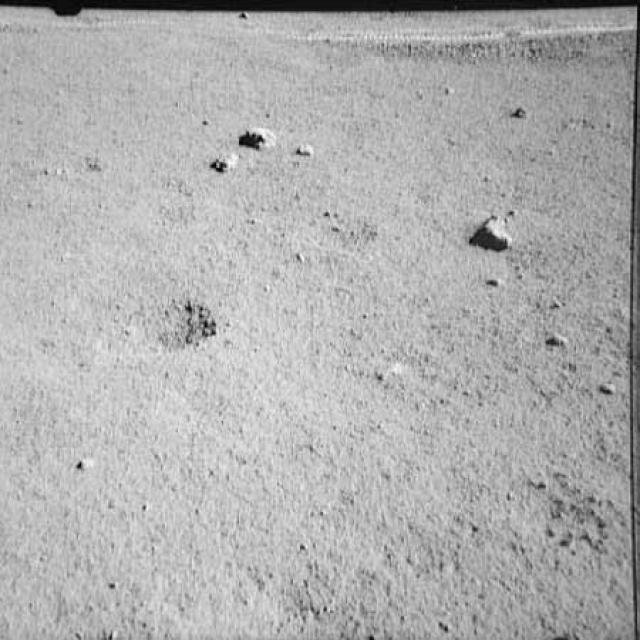rock: (462, 208, 515, 248), (235, 119, 278, 152), (204, 153, 242, 177), (292, 138, 324, 160)
